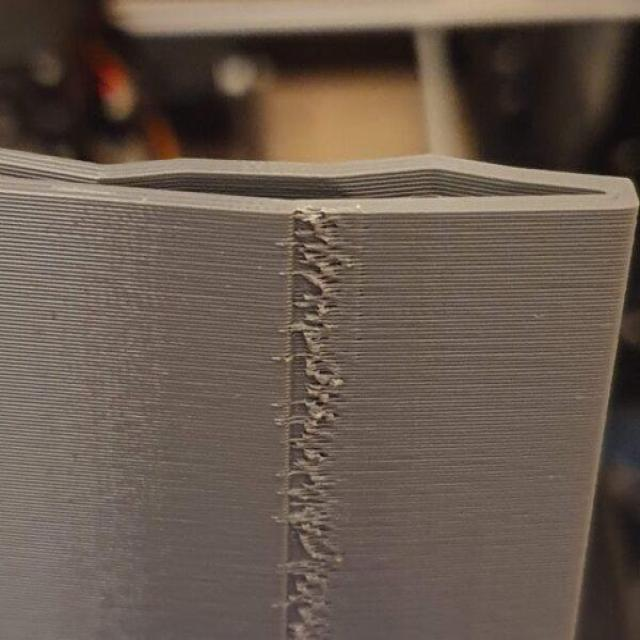spaghetti: (269, 208, 352, 640)
